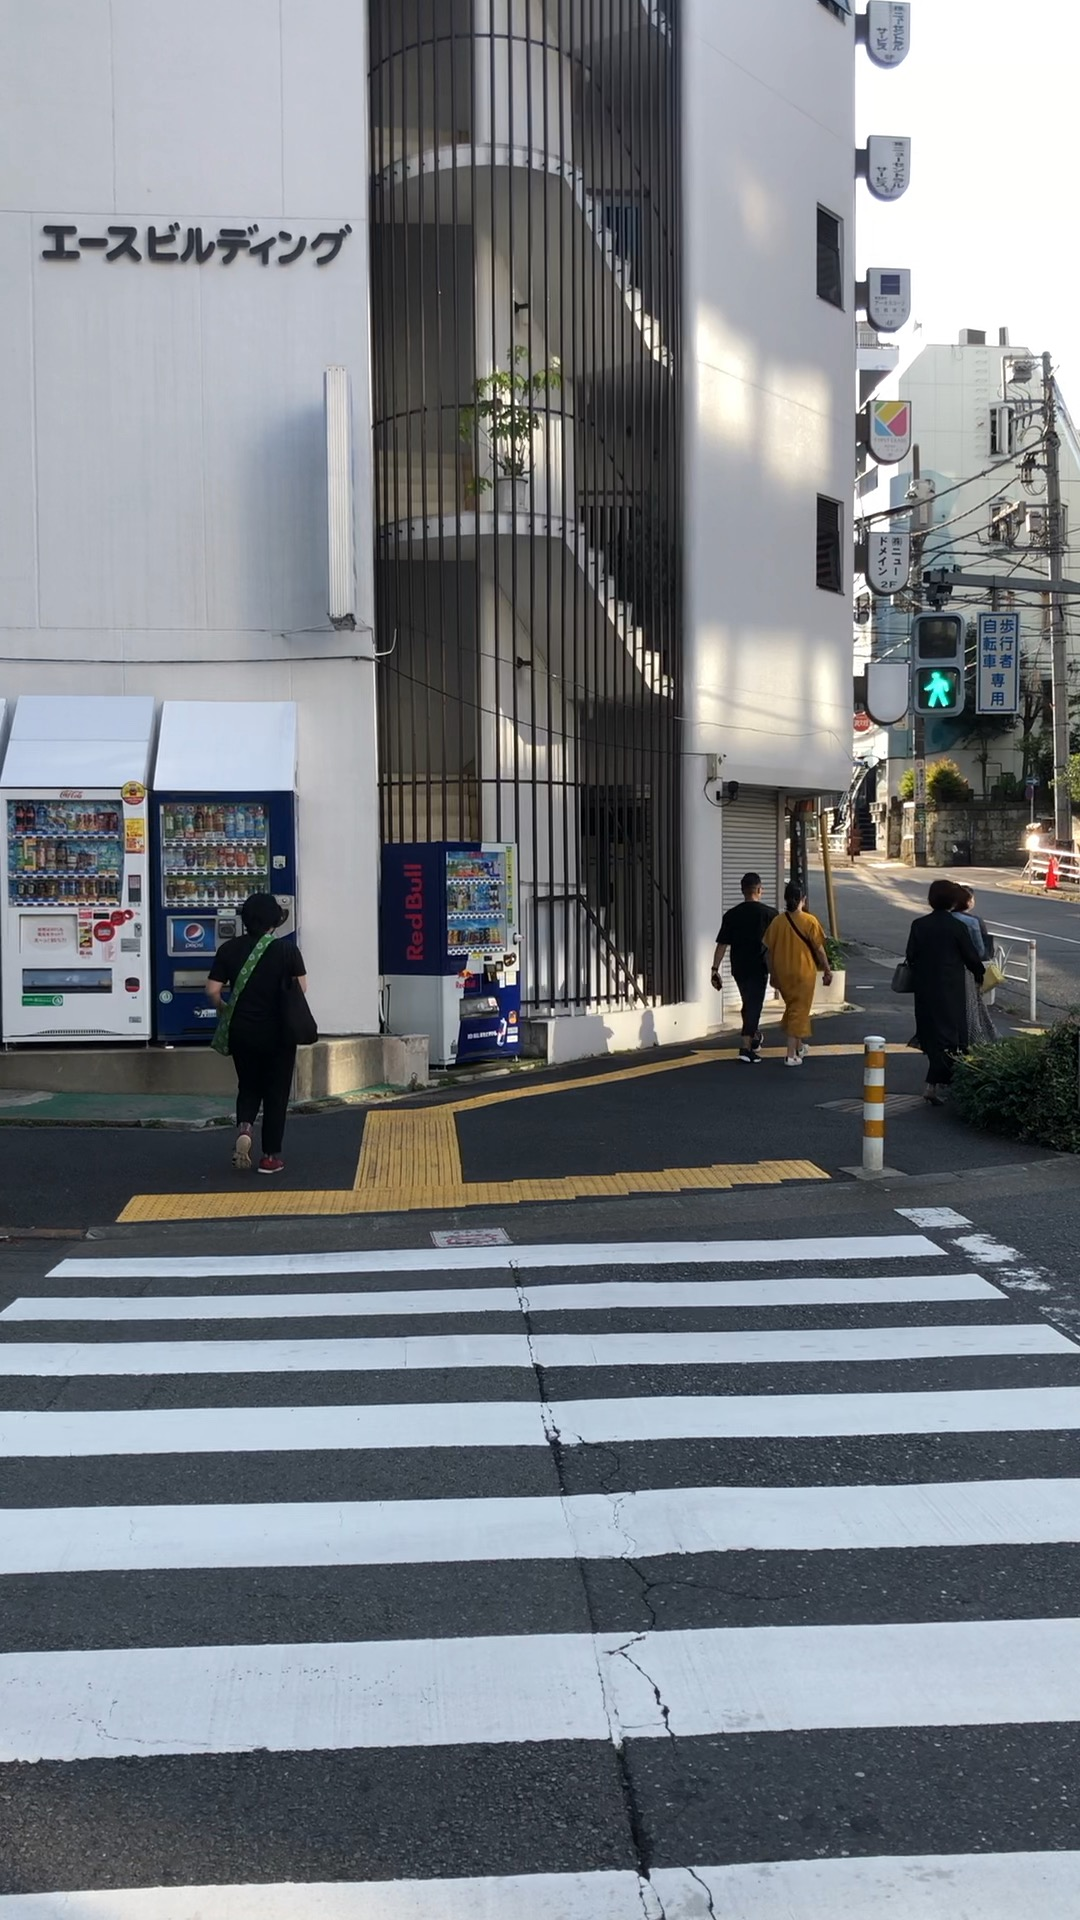green: (910, 612, 965, 713)
